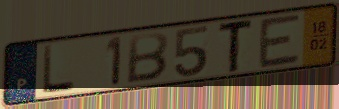1: (104, 34, 123, 87)
5: (172, 23, 210, 79)
B: (124, 30, 171, 85)
E: (257, 11, 303, 71)
L: (40, 43, 77, 96)
T: (216, 16, 255, 75)
